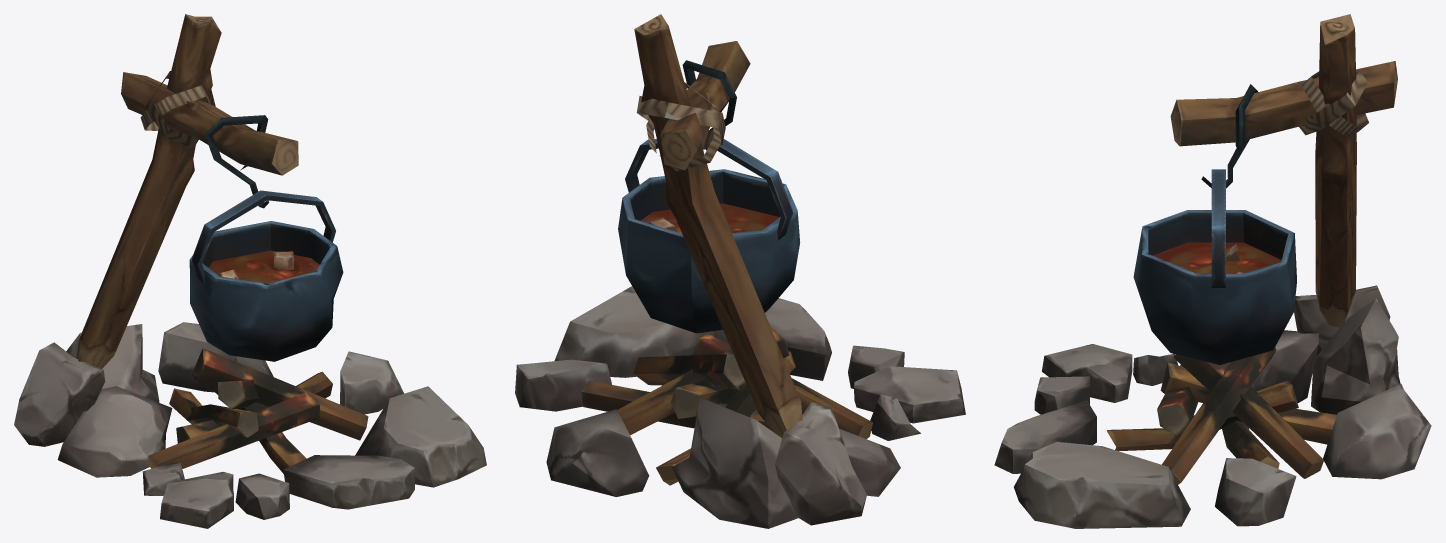
The model's file is Campfire.FBX.
3 renders of one model, left to right at view 1: azimuth 30°, elevation 25°; view 2: azimuth 150°, elevation 25°; view 3: azimuth 270°, elevation 25°, orthographic. The views are drawn at different scales.
Visible parts, largest first — view 1: Campfire; view 2: Campfire; view 3: Campfire.
Part boxes in pixels (x1,y1,x2,y2): Campfire: (14, 14, 486, 528); Campfire: (515, 14, 965, 528); Campfire: (994, 14, 1431, 528).
Bounding box in the file's own units: 1.46 × 1.6 × 1.46.
Materials: 1 (1 with a texture image).
